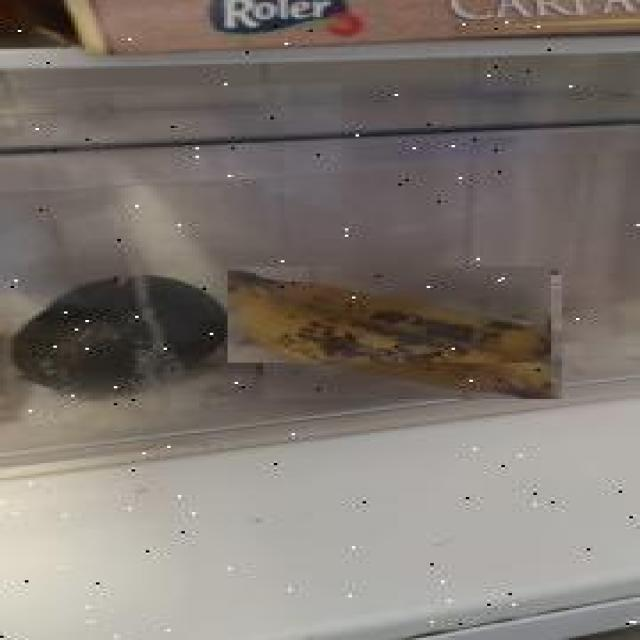avocado: (16, 274, 229, 402)
banana: (263, 275, 562, 399), (228, 266, 551, 362)
